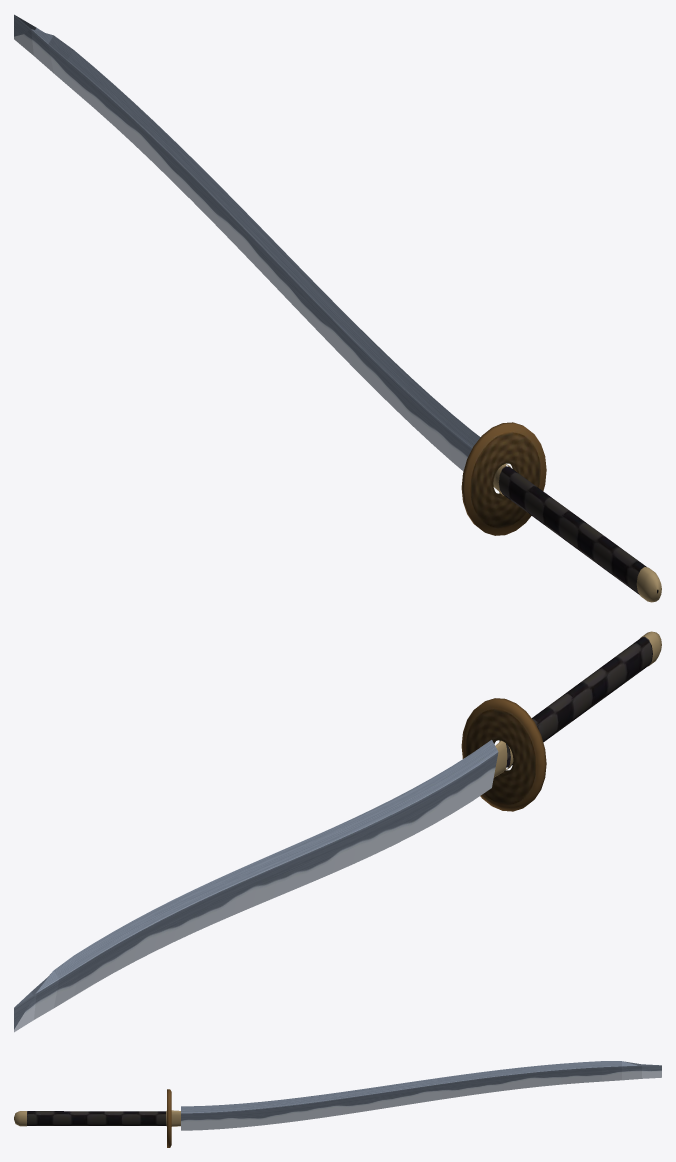
Rendered from nodachi.glb.
3 renders of one model, top to bottom at view 1: azimuth 30°, elevation 25°; view 2: azimuth 150°, elevation 25°; view 3: azimuth 270°, elevation 25°, orthographic. The views are drawn at different scales.
Parts seen in each view (by area): view 1: main; view 2: main; view 3: main.
Boxes of the visible parts, box(x1,y1,x2,y2) form: main: box(14, 14, 661, 602); main: box(14, 631, 661, 1032); main: box(14, 1061, 661, 1147).
Size of the model in its own units: 0.1238 by 0.2441 by 1.68.
4 materials, 3 textured.
